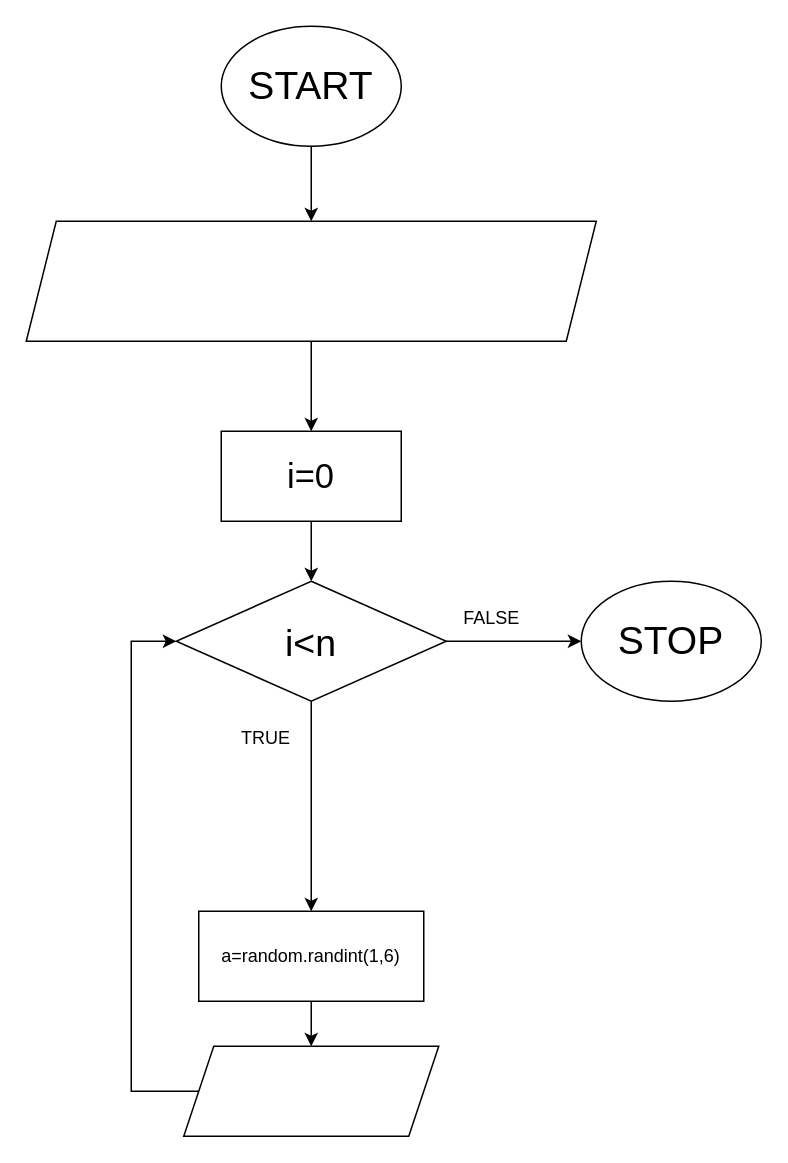
Image size: 788x1163. Some labels were removed from this diagram. The shapes that lost their labels are listed below. From the top down, each one's centre as x and y in pixels, then its label:
(x=310, y=280): n=int(input(de cate ori: ))
(x=310, y=1090): print(f"A cazut cifra {a}")
